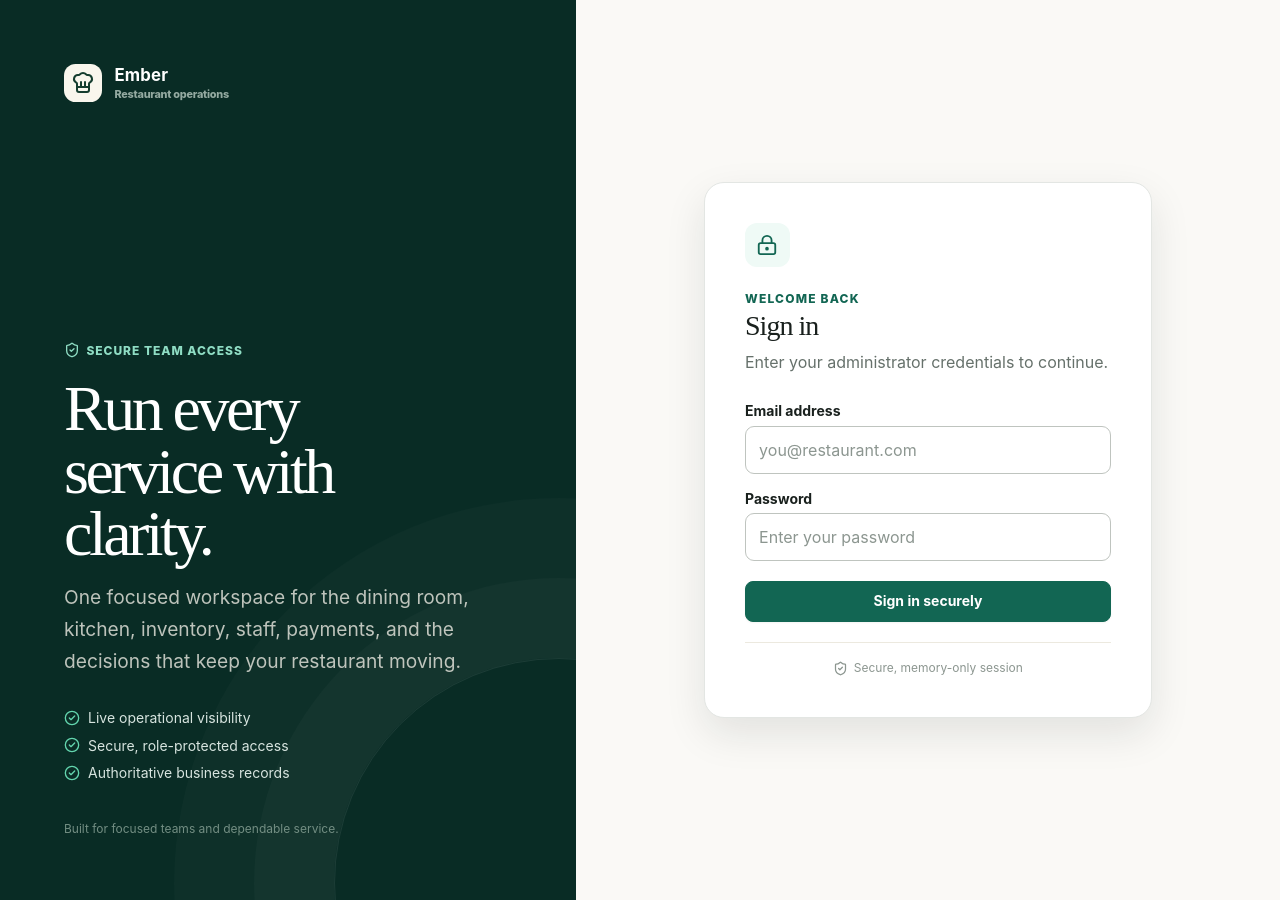
Test: LoginPage › shows useful validation and does not submit invalid input
Expected: the heading "Sign in" is shown, [745, 310, 818, 341]
In the field labelled "Email address": (928, 450) [745, 426, 1111, 474], type "not-an-email"
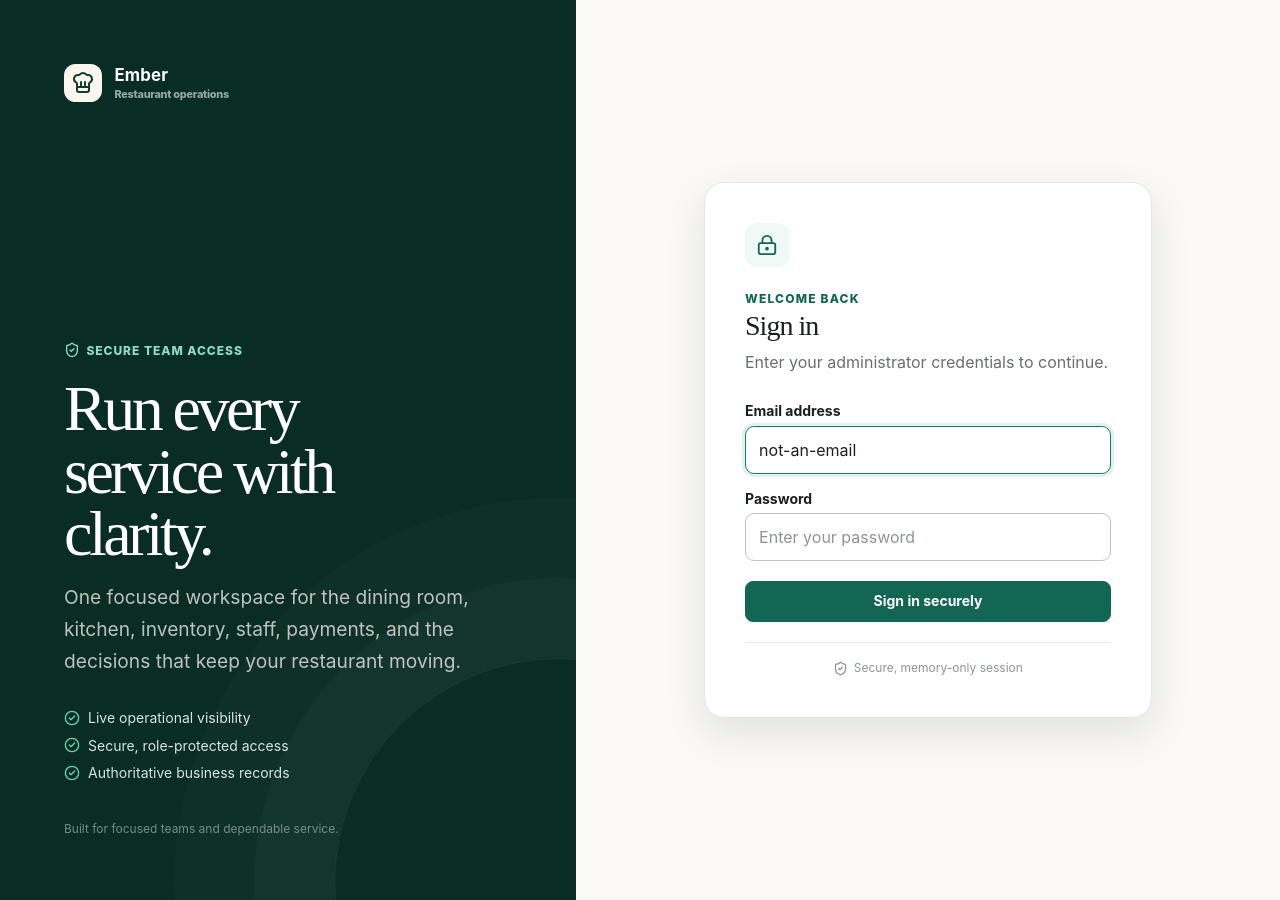
Click the button "Sign in securely": click(928, 602) [745, 581, 1111, 622]
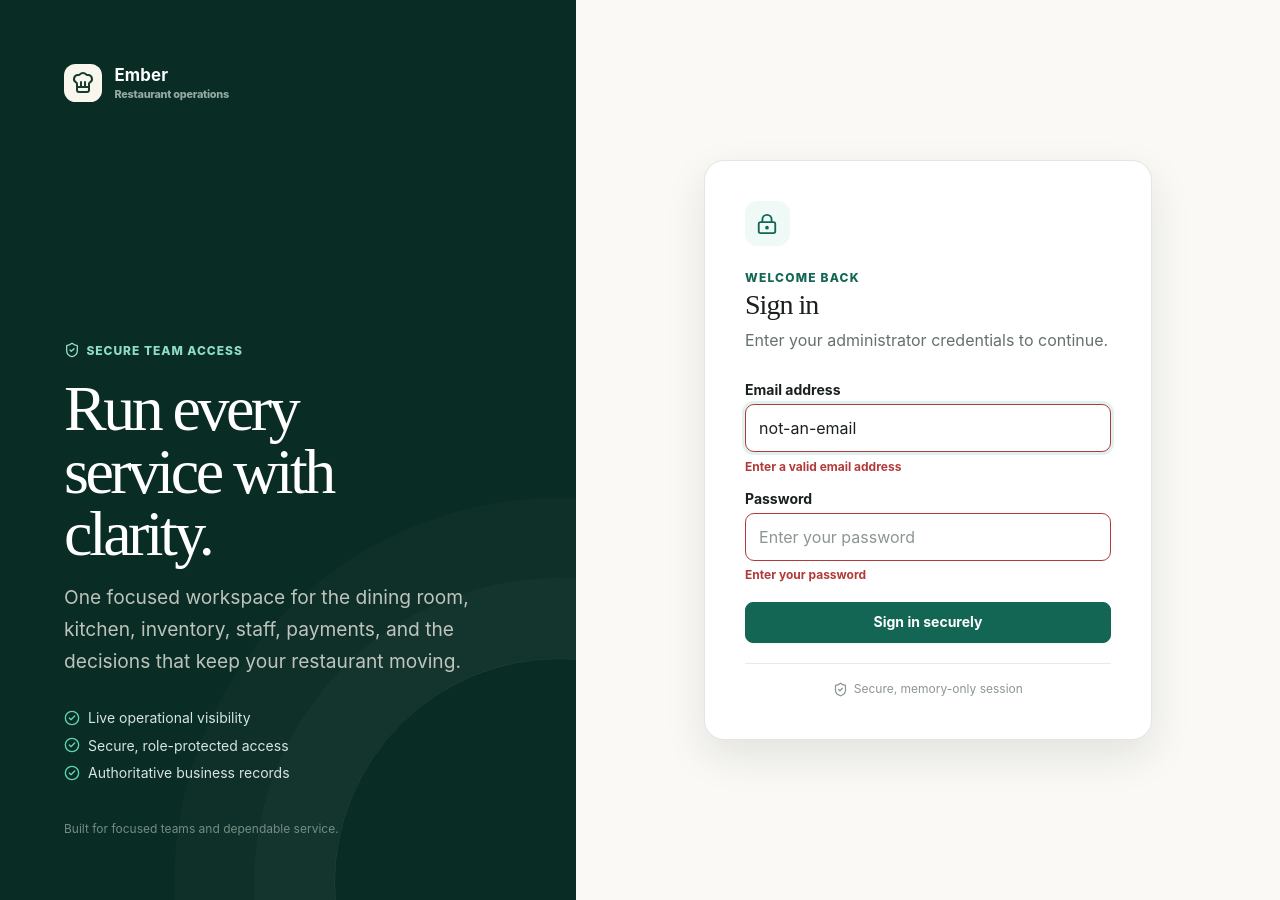
Expected: the text "Enter a valid email address" is shown, [745, 459, 901, 474]
Expected: the text "Enter your password" is shown, [745, 568, 866, 582]
